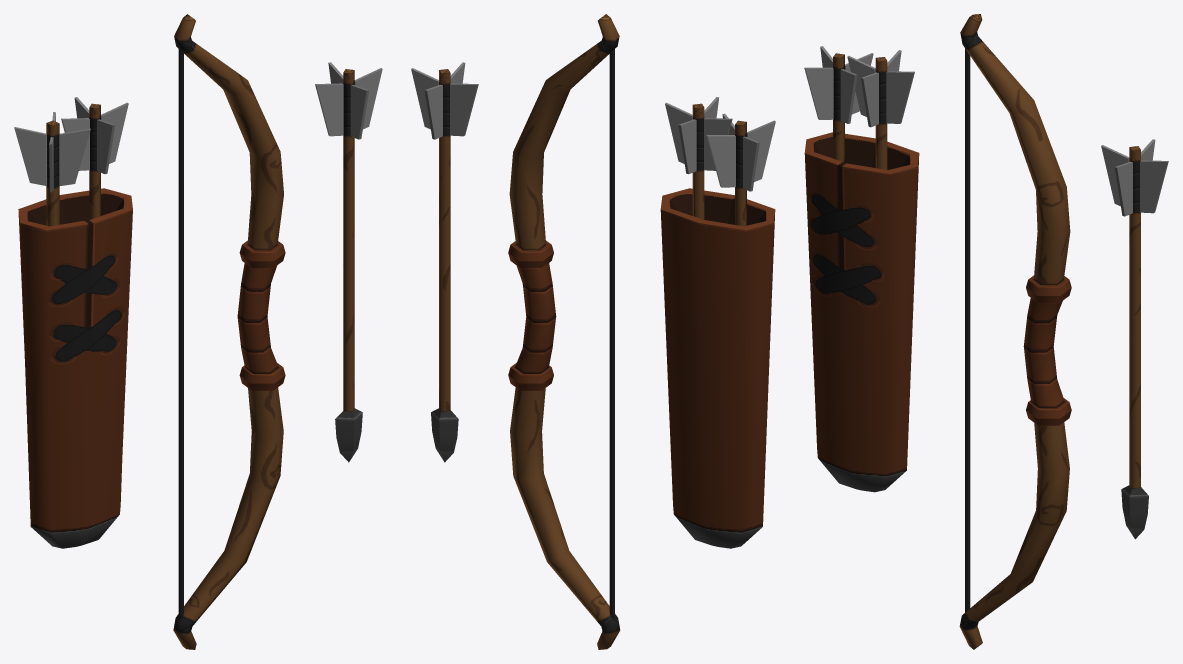
Rendered from cung_ten.fbx.
The picture shows the model from 3 angles, left to right: view 1: azimuth 30°, elevation 25°; view 2: azimuth 150°, elevation 25°; view 3: azimuth 330°, elevation 25°; orthographic projection.
Visible parts, largest first — view 1: ten_2, cung_ten, ten; view 2: ten_2, cung_ten, ten; view 3: ten_2, cung_ten, ten.
Boxes of the visible parts, left/top/right/bottom form: ten_2: left=14, top=97, right=132, bottom=548; cung_ten: left=173, top=14, right=285, bottom=649; ten: left=315, top=62, right=382, bottom=462; ten_2: left=660, top=97, right=775, bottom=548; cung_ten: left=508, top=14, right=620, bottom=649; ten: left=411, top=62, right=478, bottom=462; ten_2: left=804, top=46, right=919, bottom=492; cung_ten: left=959, top=14, right=1071, bottom=649; ten: left=1101, top=139, right=1168, bottom=539.
Bounding box in the file's own units: 2.01 × 3.35 × 0.3681.
